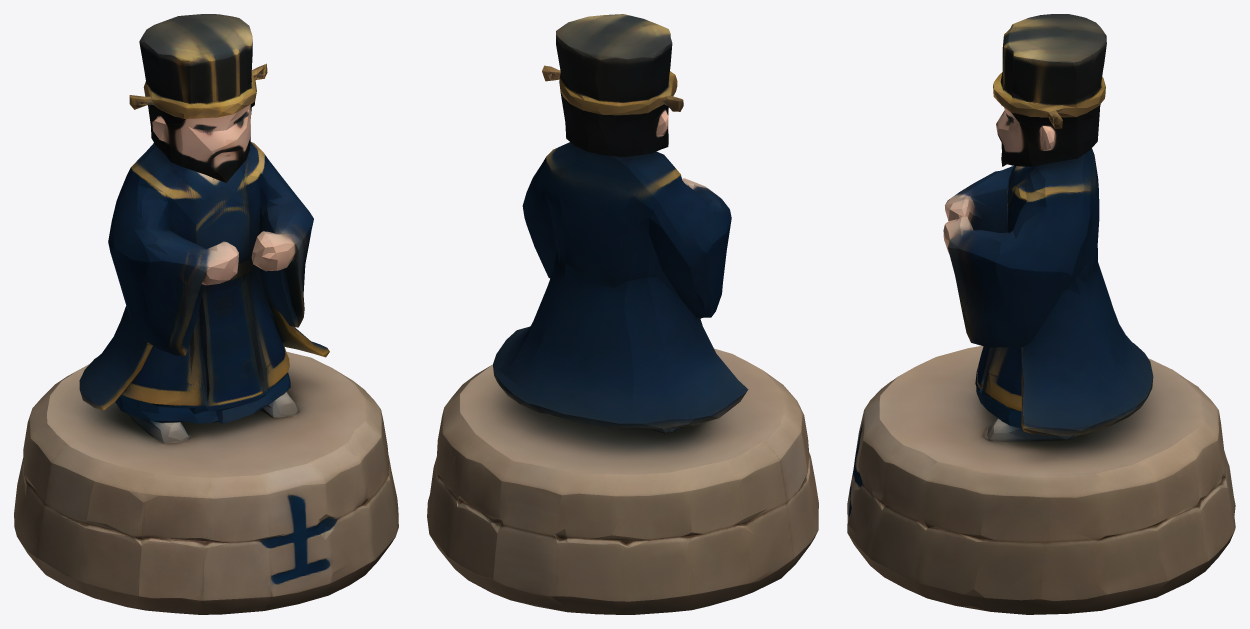
The model's file is advisor_black.glb.
3 renders of one model, left to right at view 1: azimuth 30°, elevation 25°; view 2: azimuth 150°, elevation 25°; view 3: azimuth 270°, elevation 25°, orthographic.
Visible parts, largest first — view 1: Mesh; view 2: Mesh; view 3: Mesh.
Part boxes in pixels (box(x1,y1,x2,y2)): Mesh: box(14, 14, 398, 614); Mesh: box(427, 14, 818, 614); Mesh: box(847, 14, 1235, 614).
Bounding box in the file's own units: 1.35 × 1.93 × 1.34.
Materials: 1 (1 with a texture image).
